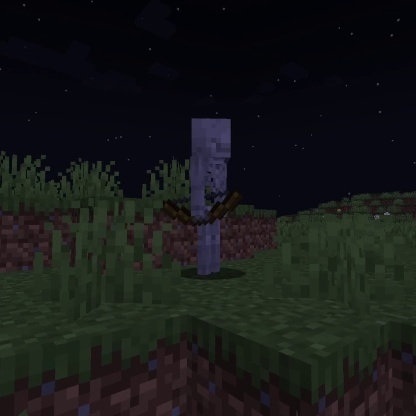skeleton: (159, 113, 247, 279)
